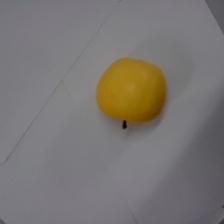yellow: (94, 54, 168, 130)
